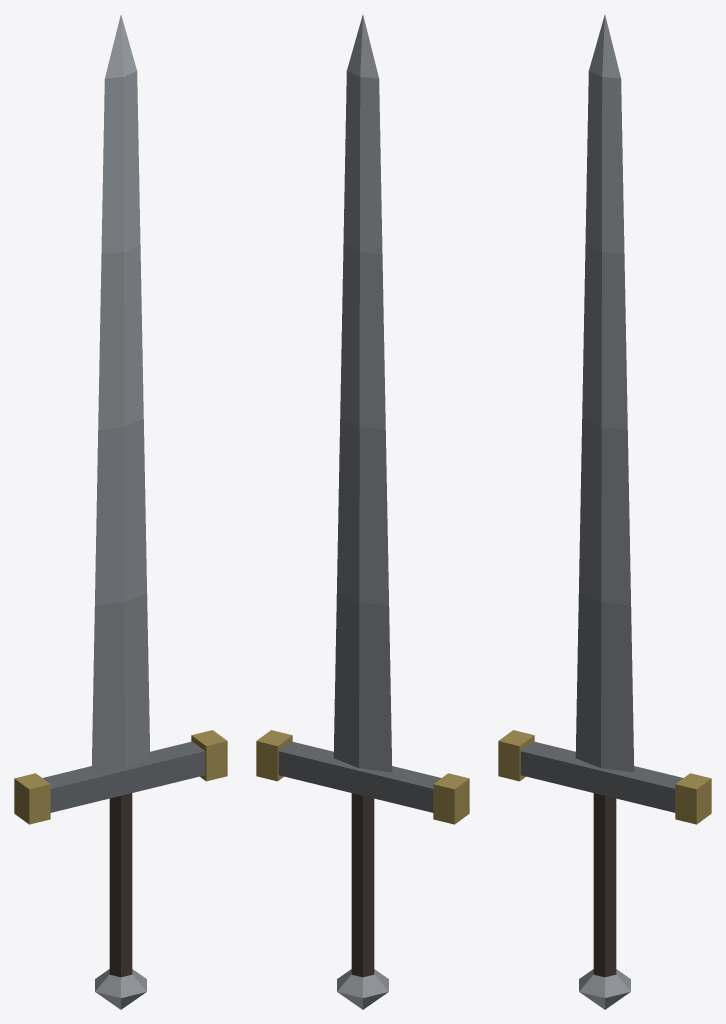
The model's file is sword_great_steel_s1022.glb.
The picture shows the model from 3 angles, left to right: view 1: azimuth 30°, elevation 25°; view 2: azimuth 150°, elevation 25°; view 3: azimuth 330°, elevation 25°; orthographic projection.
Visible parts, largest first — view 1: sword_great_steel_s1022; view 2: sword_great_steel_s1022; view 3: sword_great_steel_s1022.
Part boxes in pixels (x1,y1,x2,y2): sword_great_steel_s1022: (14, 15, 227, 1009); sword_great_steel_s1022: (256, 15, 469, 1009); sword_great_steel_s1022: (498, 15, 711, 1009).
Size of the model in its own units: 0.2593 by 1.24 by 0.0589.
1 material, 1 textured.
